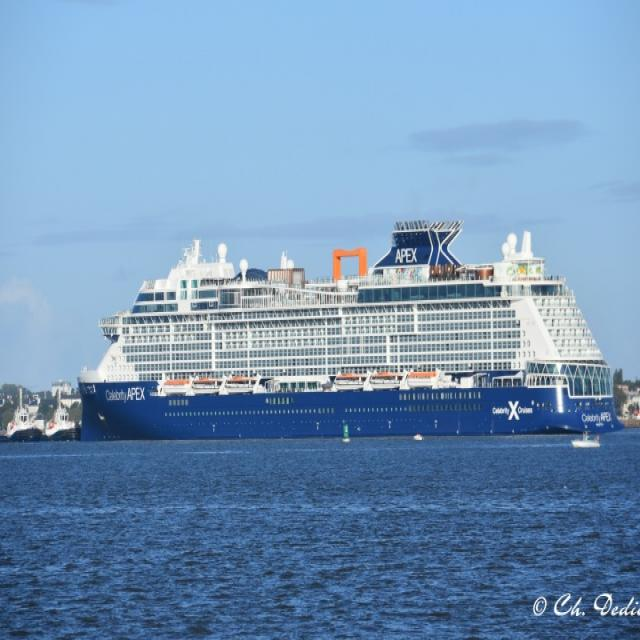cruises: (69, 208, 635, 445)
